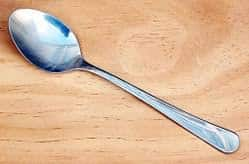spoon: (5, 4, 245, 157)
